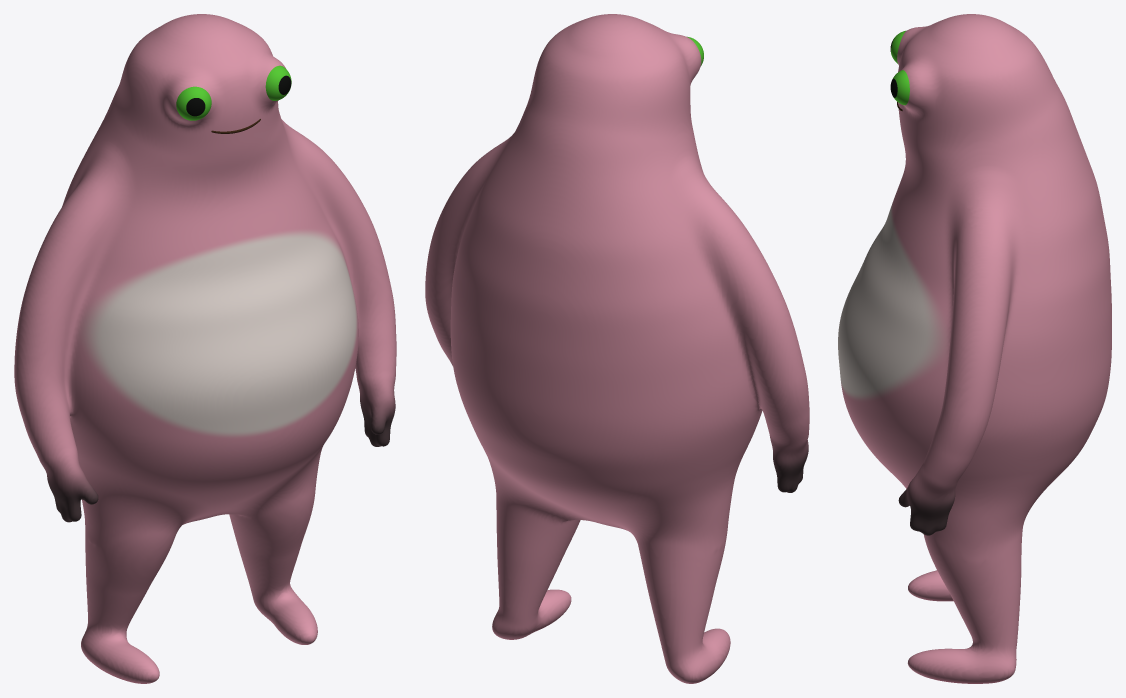
File: naiwa_pink.glb
3 renders of one model, left to right at view 1: azimuth 30°, elevation 25°; view 2: azimuth 150°, elevation 25°; view 3: azimuth 270°, elevation 25°, orthographic. The views are drawn at different scales.
Visible parts, largest first — view 1: Body, Eye_R, Eye_L; view 2: Body; view 3: Body, Eye_L.
Part boxes in pixels (bbox=[...]): Body: bbox=[14, 14, 396, 683]; Eye_R: bbox=[176, 86, 211, 120]; Eye_L: bbox=[265, 65, 291, 100]; Body: bbox=[425, 14, 809, 683]; Body: bbox=[838, 14, 1111, 683]; Eye_L: bbox=[890, 70, 909, 105].
Bounding box in the file's own units: 1.24 × 2 × 0.8055.
